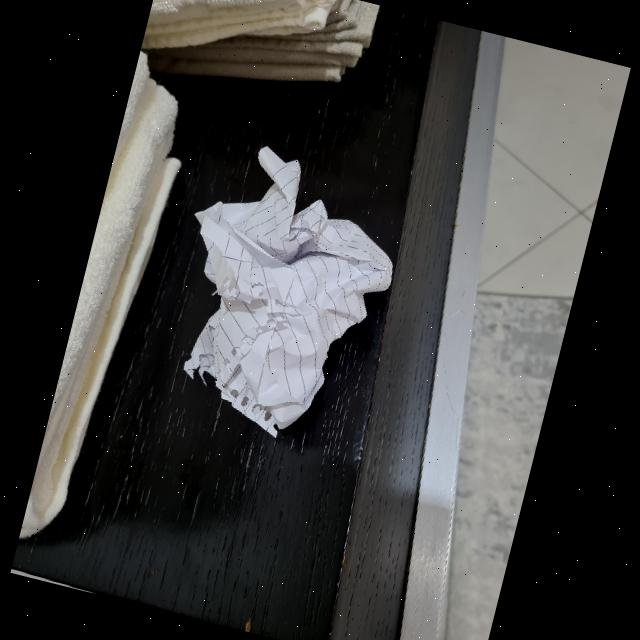trash: (155, 137, 407, 436)
